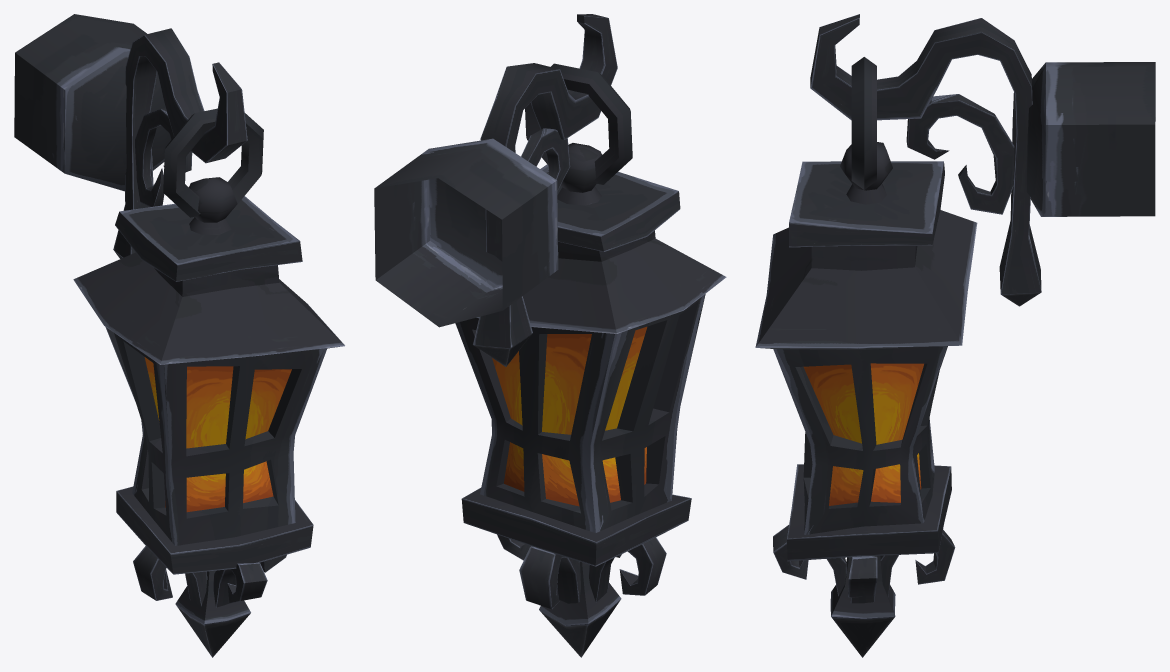
Rendered from SM_PROP_lantern_interior_02.fbx.
3 views of the same model, side by side, from view 1: azimuth 30°, elevation 25°; view 2: azimuth 150°, elevation 25°; view 3: azimuth 270°, elevation 25° (orthographic). The views are drawn at different scales.
Parts seen in each view (by area): view 1: SM_PROP_lantern_interior_02; view 2: SM_PROP_lantern_interior_02; view 3: SM_PROP_lantern_interior_02.
Boxes of the visible parts, x1=… form: SM_PROP_lantern_interior_02: x1=14, y1=14, x2=344, y2=657; SM_PROP_lantern_interior_02: x1=374, y1=14, x2=726, y2=657; SM_PROP_lantern_interior_02: x1=755, y1=14, x2=1155, y2=657.
Bounding box in the file's own units: 31.35 × 91.3 × 51.46.
